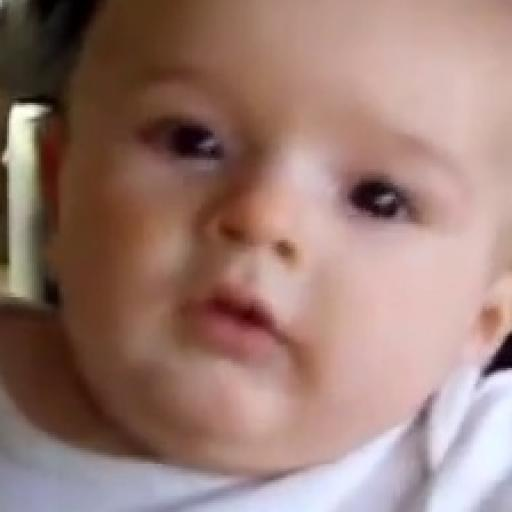Autism: (39, 11, 512, 487)
